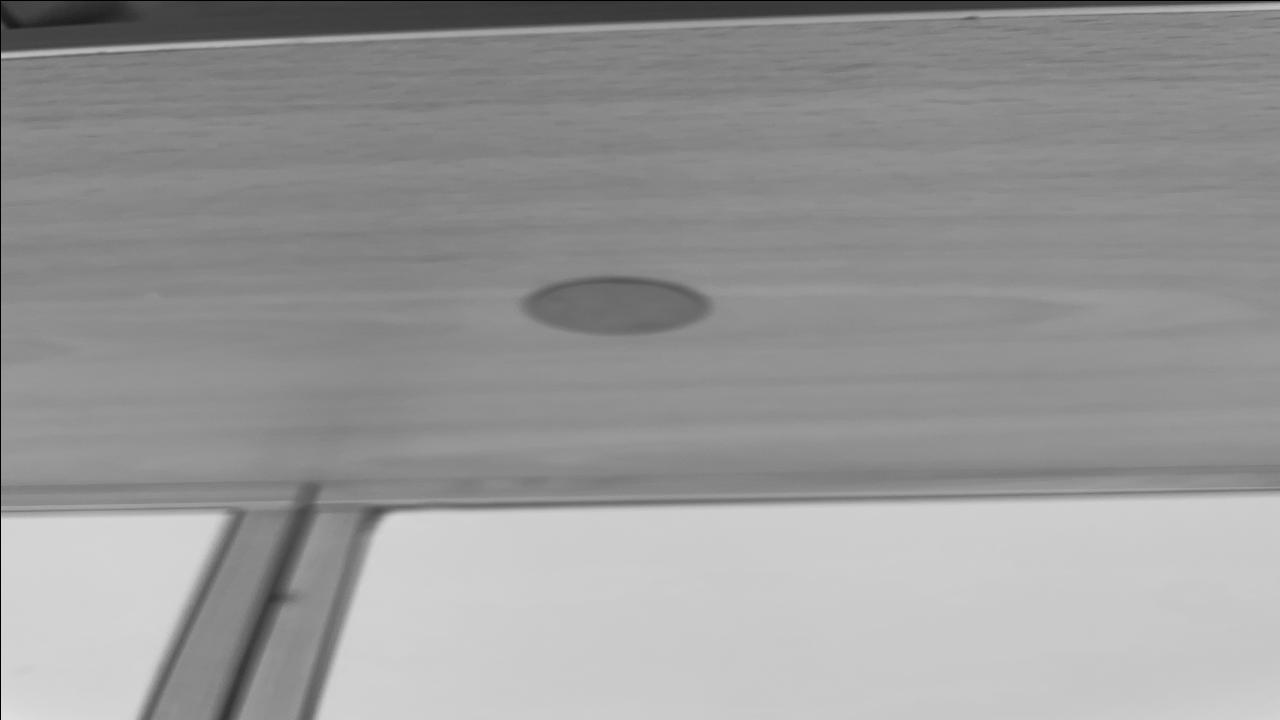coin: (520, 277, 714, 338)
